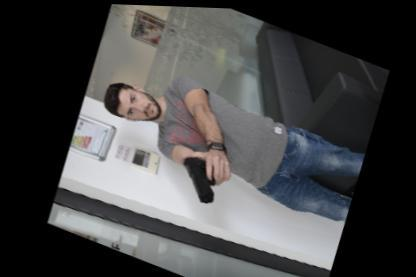pistol: (169, 150, 222, 204)
